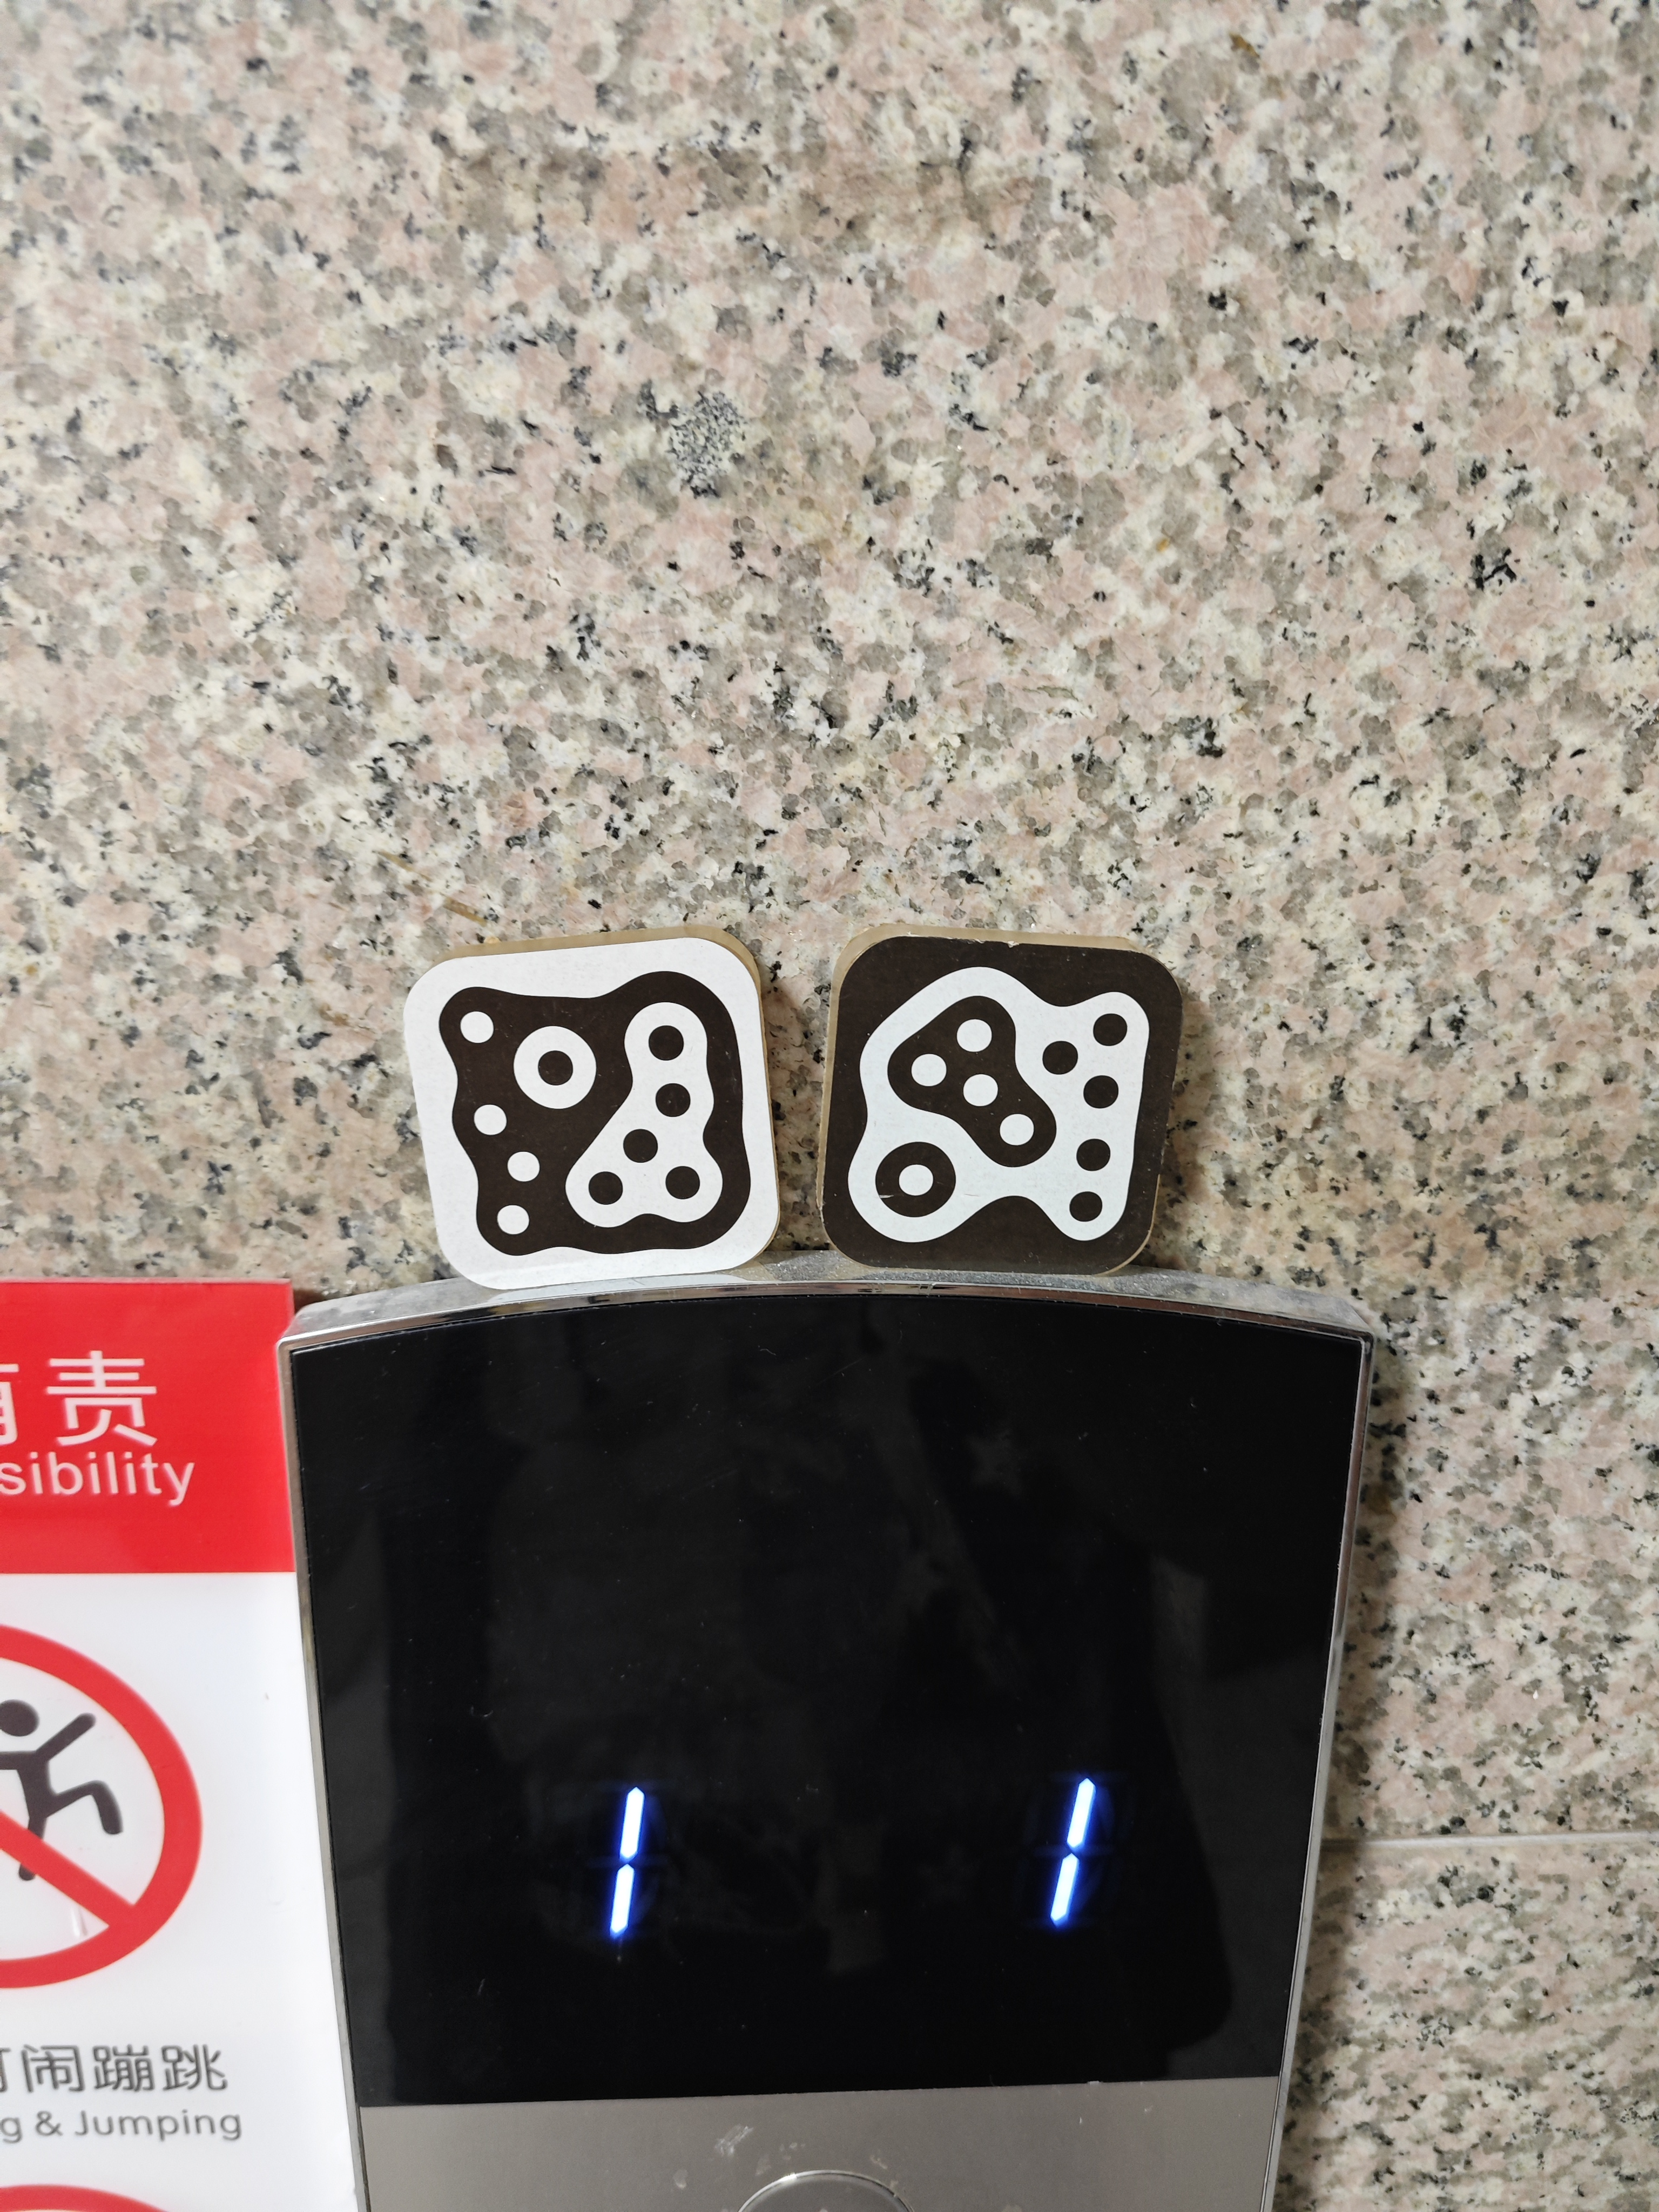mark1: (429, 968, 760, 1270)
mark2: (842, 960, 1145, 1258)
